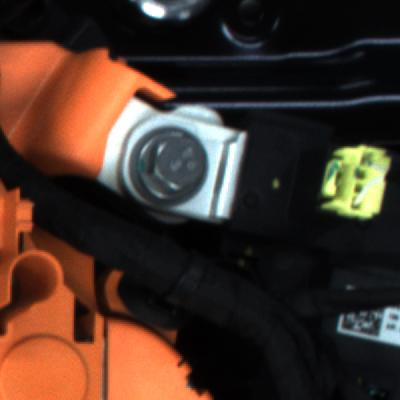nut_b: (130, 125, 225, 211)
